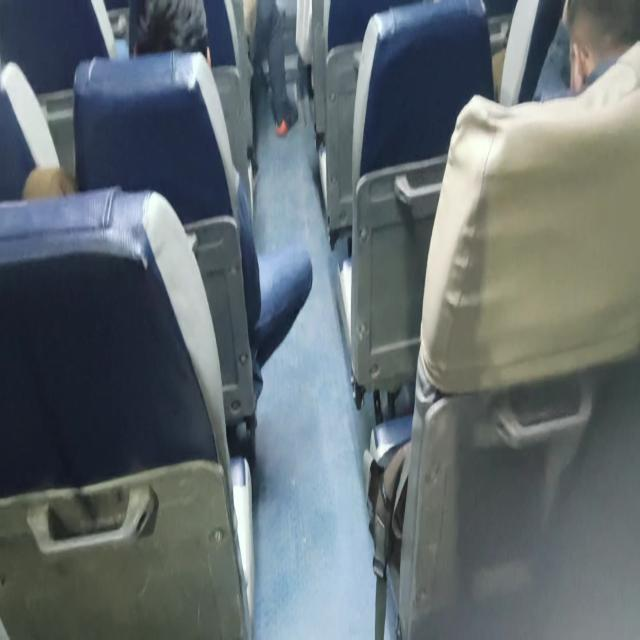person: (365, 0, 639, 638), (536, 0, 639, 102), (243, 0, 299, 138), (132, 0, 211, 64)
